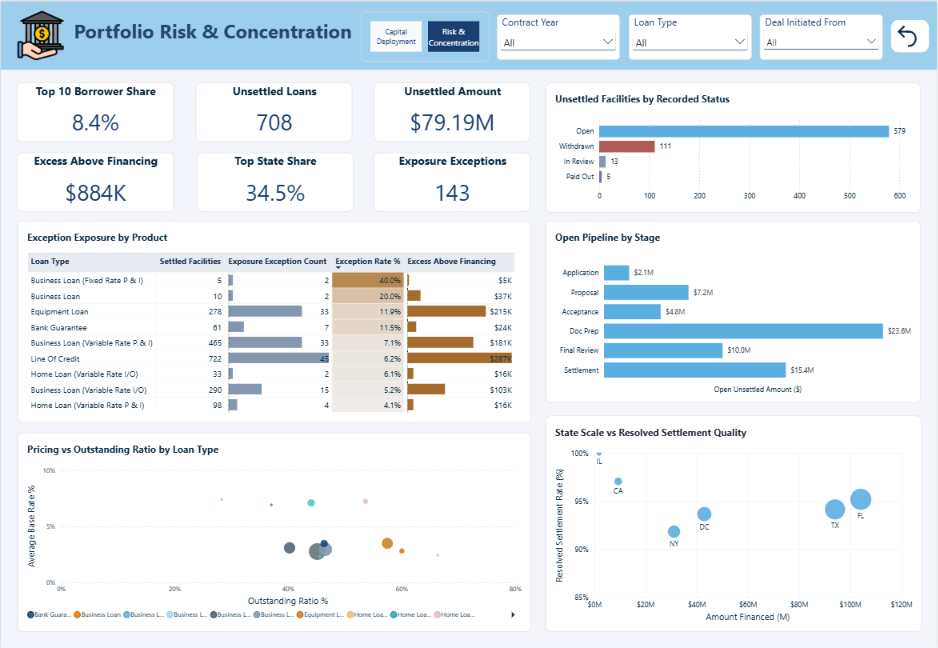

What the dashboard file says about the page in this screenshot:
{"tool":"powerbi","page":{"name":"Risk & Concentration","canvas":[1560,1080],"ordinal":1},"visuals":[{"type":"shape","box":[0,0,1560,113.3],"z":0},{"type":"textbox","box":[121,27,477.1,72],"z":1000},{"type":"slicer","fields":{"Values":["Date.Year"]},"box":[826,21,205,75],"z":2000},{"type":"slicer","fields":{"Values":["credit_facilities.Loan Type"]},"box":[1047,21,205,75],"z":3000},{"type":"slicer","fields":{"Values":["credit_facilities.Deal Initiated From"]},"box":[1265,21,205,75],"z":4000},{"type":"tableEx","title":"Exception Exposure by Product","fields":{"Values":["credit_facilities.Loan Type","All Measures.TotalLoans_Settled","All Measures.Exposure Exception Count","All Measures.Exception Rate %","All Measures.Excess Above Financing"]},"box":[28.3,365,855,336.7],"z":5000},{"type":"scatterChart","title":"Pricing vs Outstanding Ratio by Loan Type","fields":{"Category":["credit_facilities.Loan Type"],"Series":["credit_facilities.Loan Type"],"Size":["All Measures.AmountFinanced"],"X":["All Measures.Outstanding Ratio %"],"Y":["All Measures.Average Base Rate %"]},"box":[28.3,718.3,855,331.7],"z":6000},{"type":"card","title":"Unsettled Loans","fields":{"Values":["All Measures.Unsettled Loans"]},"box":[325,135,261,98],"z":7000},{"type":"card","title":"Top State Share","fields":{"Values":["All Measures.Top State Share %"]},"box":[326.7,252,261,98],"z":8000},{"type":"card","title":"Top 10 Borrower Share","fields":{"Values":["All Measures.Top 10 Borrower Share %"]},"box":[26.7,135,261.7,98.3],"z":9000},{"type":"scatterChart","title":"State Scale vs Resolved Settlement Quality","fields":{"Category":["credit_facilities.Deal Initiated From"],"Size":["All Measures.TotalLoans"],"X":["All Measures.AmountFinanced"],"Y":["All Measures.Resolved Settlement Rate %"]},"box":[908.3,690,626.7,360],"z":10000},{"type":"barChart","title":"Unsettled Facilities by Recorded Status","fields":{"Category":["credit_facilities.Status"],"Y":["All Measures.Unsettled Loans"]},"box":[908.3,135,625,216.7],"z":11000},{"type":"card","title":"Unsettled Amount","fields":{"Values":["All Measures.AmountFinanced_UnSettled"]},"box":[621.7,135,261,98],"z":12000},{"type":"card","title":"Exposure Exceptions","fields":{"Values":["All Measures.Exposure Exception Count"]},"box":[621.7,252,261,98],"z":13000},{"type":"card","title":"Excess Above Financing","fields":{"Values":["All Measures.Excess Above Financing"]},"box":[26.7,252,261.7,98.3],"z":14000},{"type":"barChart","title":"Open Pipeline by Stage","fields":{"Category":["credit_facilities.Stage"],"Y":["All Measures.AmountFinanced_UnSettled"]},"box":[908.3,365,625,303.3],"z":15000},{"type":"actionButton","box":[1483,30,64,55],"z":16000},{"type":"image","box":[0,0,132.9,112.9],"z":17000},{"type":"pageNavigator","box":[600,17.1,214.3,82.9],"z":18000}]}

Visuals, with their boxes in screenshot pixels (x1, y1, x2, y2), scaled from the page's 1560x1080 canvas onto the 938x648 screenshot:
shape: detection(0, 0, 937, 68)
textbox: detection(73, 16, 360, 59)
slicer - Date.Year: detection(497, 13, 620, 58)
slicer - credit_facilities.Loan Type: detection(630, 13, 753, 58)
slicer - credit_facilities.Deal Initiated From: detection(761, 13, 884, 58)
"Exception Exposure by Product" tableEx: detection(17, 219, 531, 421)
"Pricing vs Outstanding Ratio by Loan Type" scatterChart: detection(17, 431, 531, 630)
"Unsettled Loans" card: detection(195, 81, 352, 140)
"Top State Share" card: detection(196, 151, 353, 210)
"Top 10 Borrower Share" card: detection(16, 81, 173, 140)
"State Scale vs Resolved Settlement Quality" scatterChart: detection(546, 414, 923, 630)
"Unsettled Facilities by Recorded Status" barChart: detection(546, 81, 922, 211)
"Unsettled Amount" card: detection(374, 81, 531, 140)
"Exposure Exceptions" card: detection(374, 151, 531, 210)
"Excess Above Financing" card: detection(16, 151, 173, 210)
"Open Pipeline by Stage" barChart: detection(546, 219, 922, 401)
actionButton: detection(892, 18, 930, 51)
image: detection(0, 0, 80, 68)
pageNavigator: detection(361, 10, 490, 60)
